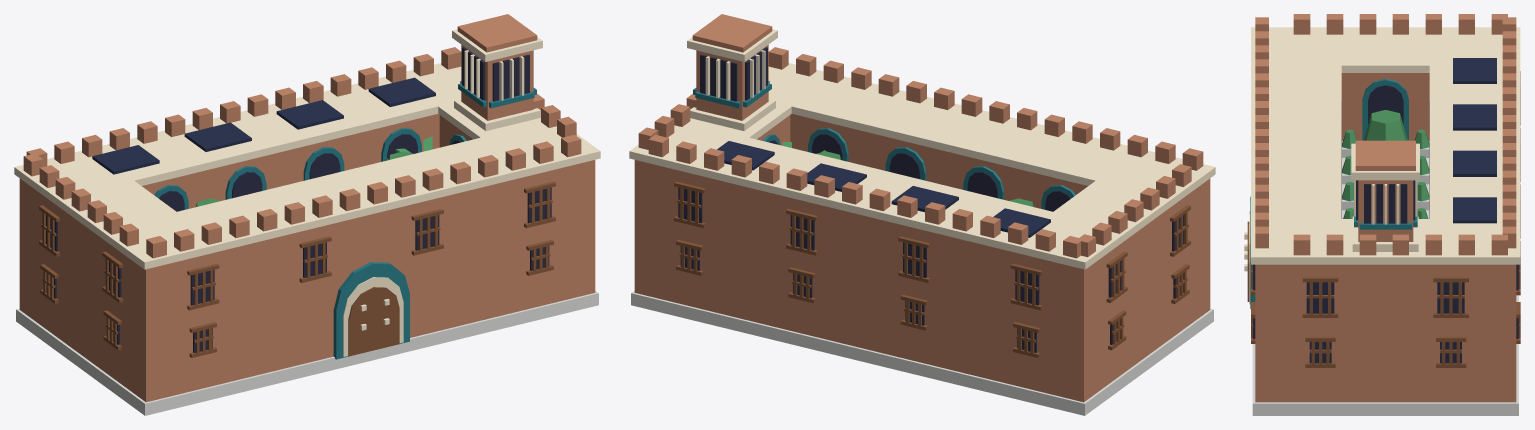
File: house-2x1-2f-third-riad-a-solar.glb
3 views of the same model, side by side, from view 1: azimuth 30°, elevation 25°; view 2: azimuth 150°, elevation 25°; view 3: azimuth 270°, elevation 25° (orthographic). The views are drawn at different scales.
Visible parts, largest first — view 1: house-2x1-2f-third-riad-a-solar; view 2: house-2x1-2f-third-riad-a-solar; view 3: house-2x1-2f-third-riad-a-solar.
Boxes of the visible parts, bbox=[...] form: house-2x1-2f-third-riad-a-solar: bbox=[14, 14, 600, 415]; house-2x1-2f-third-riad-a-solar: bbox=[629, 14, 1215, 415]; house-2x1-2f-third-riad-a-solar: bbox=[1244, 14, 1520, 415].
Size of the model in its own units: 1.98 by 0.98 by 1.01.
1 material, 1 textured.
